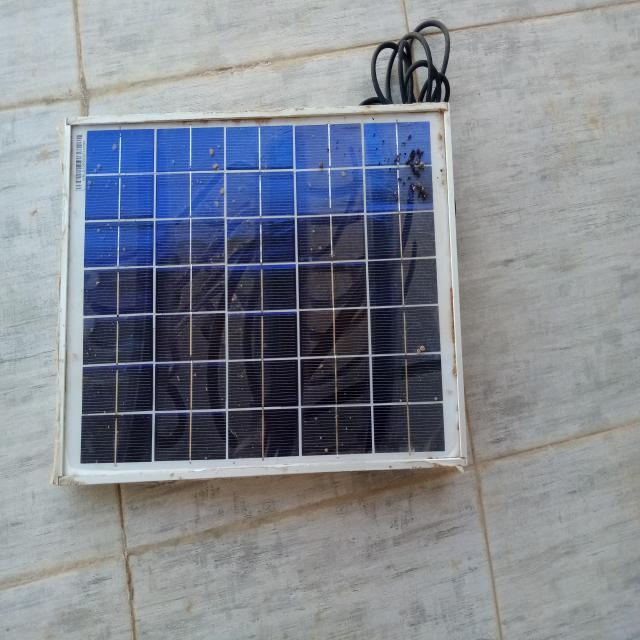faulty: (58, 107, 465, 482)
